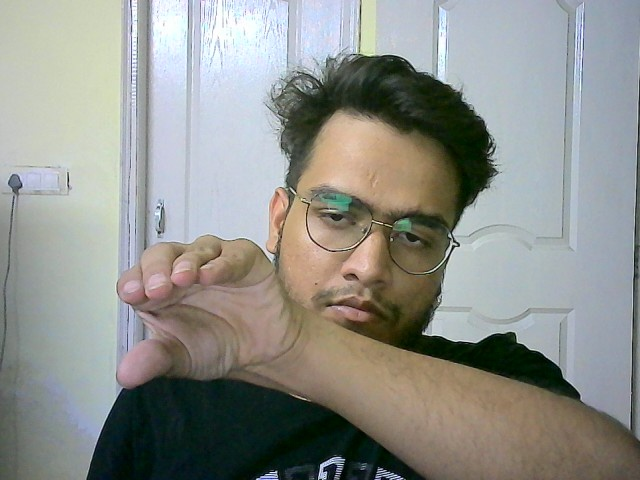No: (92, 231, 307, 392)
